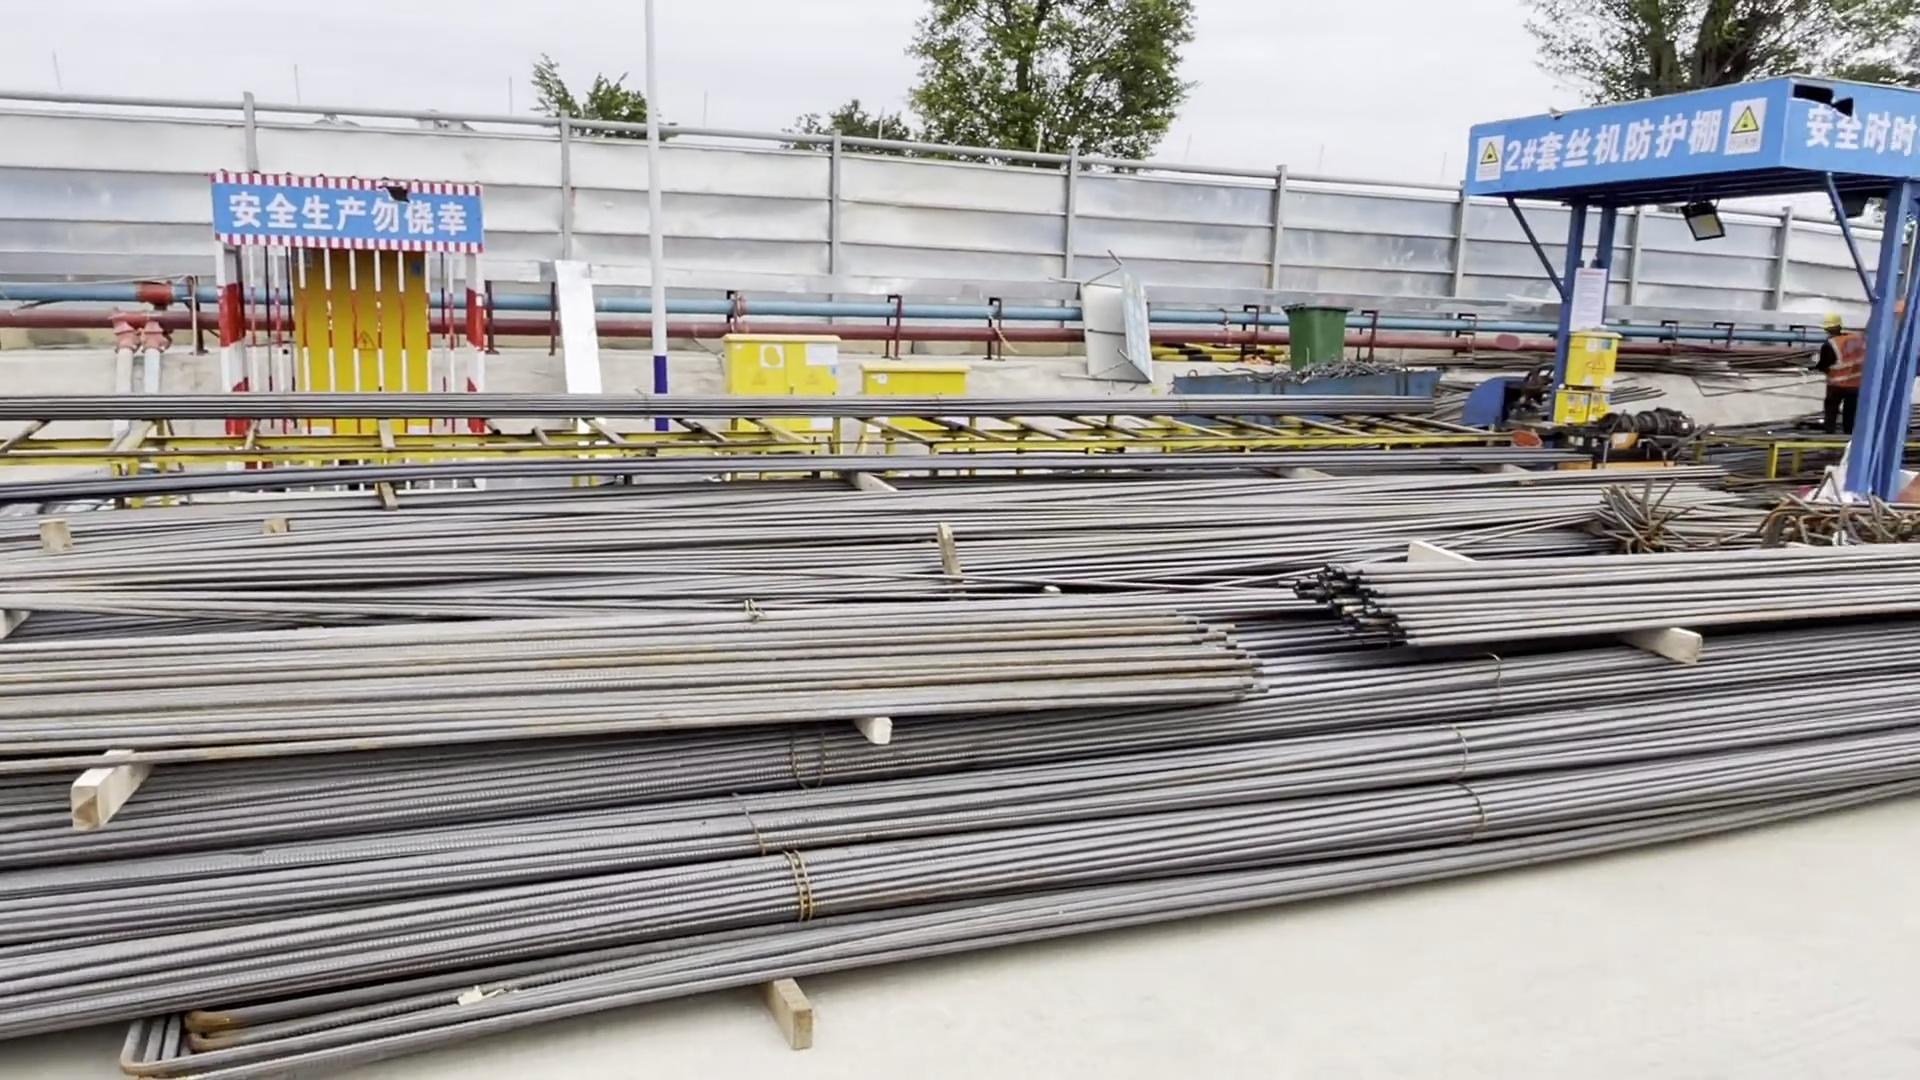ebox: (281, 249, 438, 439), (726, 339, 846, 427), (860, 363, 966, 428), (1554, 328, 1619, 425)
fence: (485, 124, 1409, 321)
helmet: (1819, 317, 1849, 340)
hopper: (1174, 365, 1441, 419)
person: (1817, 312, 1870, 440)
rebar: (1, 467, 1919, 1025)
slogan: (1477, 95, 1773, 185), (230, 181, 477, 251), (1809, 95, 1920, 168)
vest: (1826, 340, 1871, 391)
